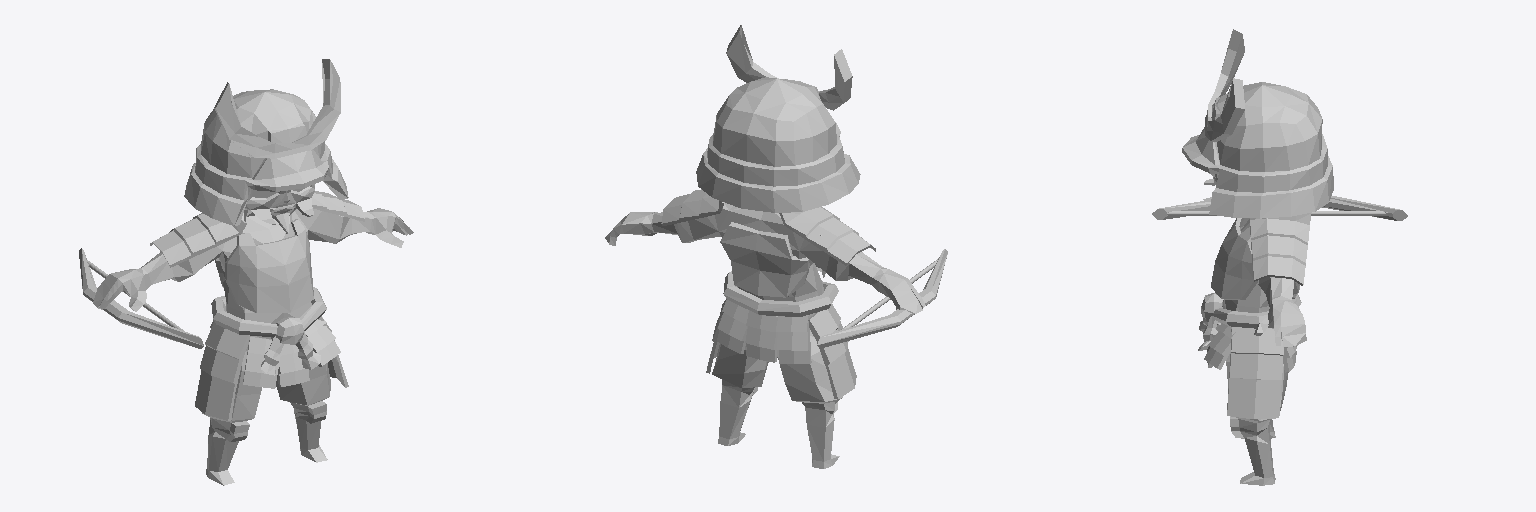
Rendered from Samurai_Archer_v2.obj.
The picture shows the model from 3 angles: view 1: azimuth 30°, elevation 25°; view 2: azimuth 150°, elevation 25°; view 3: azimuth 270°, elevation 25°; orthographic projection.
Parts seen in each view (by area): view 1: S_Body_Mesh2, polySurface1 pasted__BowMesh; view 2: S_Body_Mesh2, polySurface1 pasted__BowMesh; view 3: S_Body_Mesh2, polySurface1 pasted__BowMesh, pasted__BowMesh polySurface2.
Boxes of the visible parts, x1=… form: S_Body_Mesh2: x1=93, y1=59, x2=413, y2=485; polySurface1 pasted__BowMesh: x1=79, y1=248, x2=203, y2=348; S_Body_Mesh2: x1=605, y1=25, x2=925, y2=468; polySurface1 pasted__BowMesh: x1=817, y1=249, x2=947, y2=348; S_Body_Mesh2: x1=1182, y1=29, x2=1333, y2=485; polySurface1 pasted__BowMesh: x1=1152, y1=196, x2=1407, y2=220; pasted__BowMesh polySurface2: x1=1167, y1=211, x2=1386, y2=215.
Bounding box in the file's own units: 7.86 × 9.68 × 5.58.